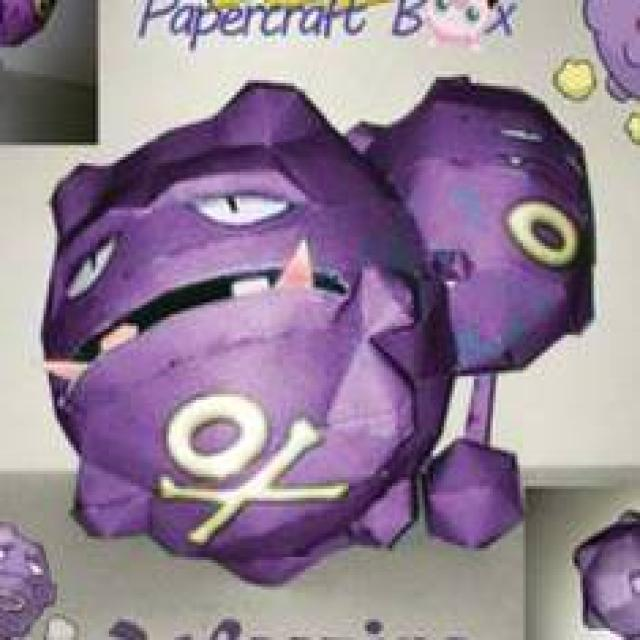Weezing: (47, 80, 601, 564)
